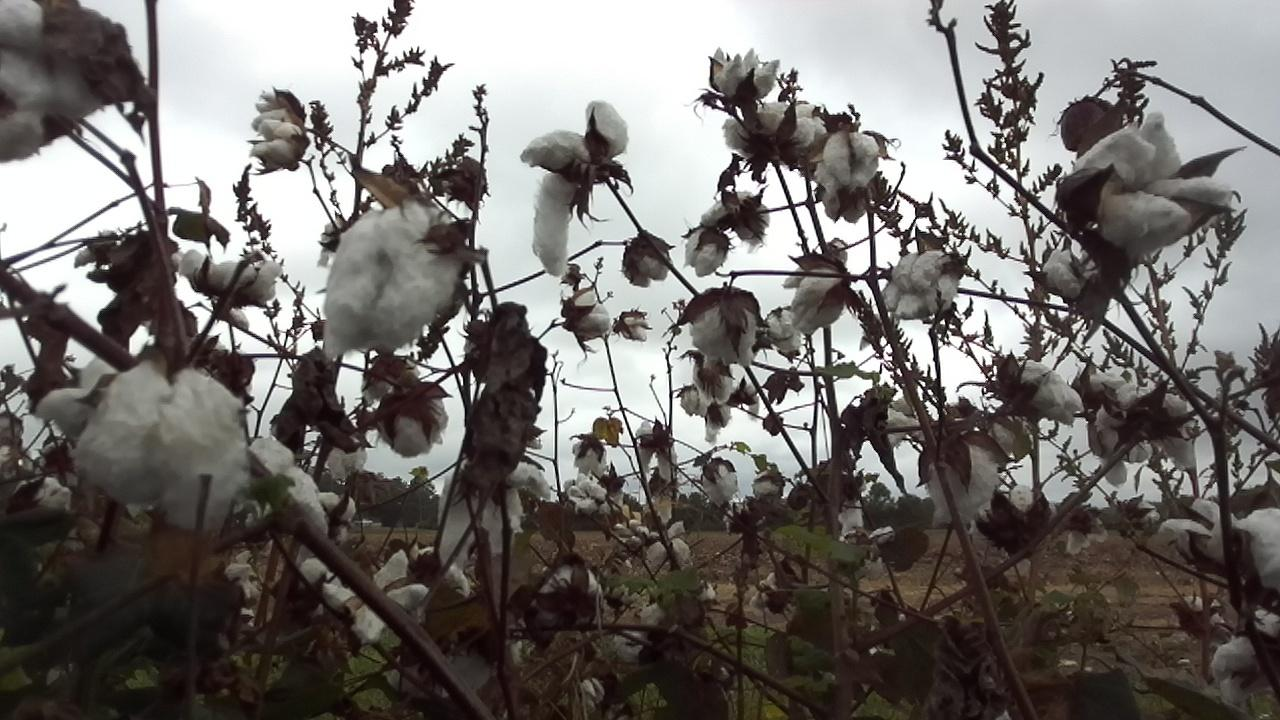cotton_ready: (77, 367, 250, 537), (1071, 113, 1236, 250), (324, 202, 460, 364), (521, 99, 629, 275), (0, 0, 102, 159), (435, 461, 555, 582), (1087, 368, 1201, 474), (322, 548, 429, 643), (253, 437, 332, 544), (923, 433, 1002, 525), (1212, 608, 1280, 710), (179, 243, 279, 307), (881, 244, 960, 323), (684, 286, 761, 366), (246, 87, 309, 182), (720, 102, 825, 158), (1002, 355, 1084, 424), (1157, 498, 1240, 564), (377, 383, 451, 457), (814, 129, 885, 200), (784, 261, 850, 332), (1229, 504, 1280, 583), (702, 191, 769, 247), (1044, 248, 1108, 305), (706, 52, 779, 100), (681, 227, 731, 281), (563, 287, 613, 340), (620, 238, 672, 288), (702, 459, 739, 505)
